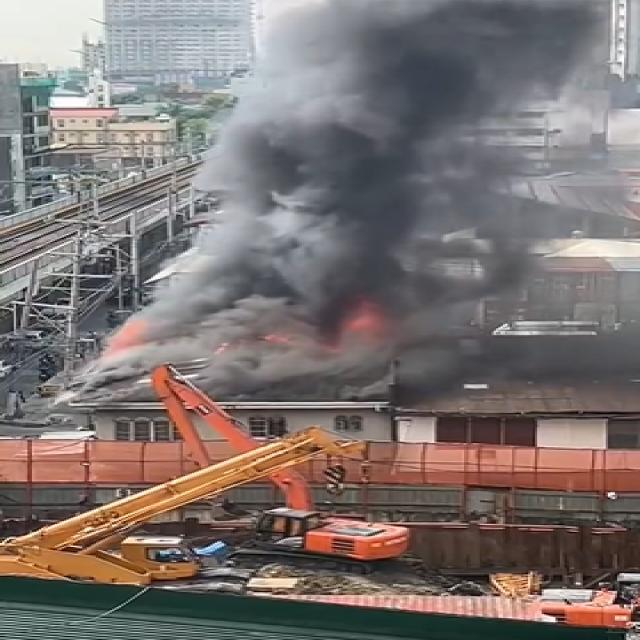Fire: (298, 288, 406, 358), (106, 323, 172, 356)
Smoke: (94, 0, 612, 405)
